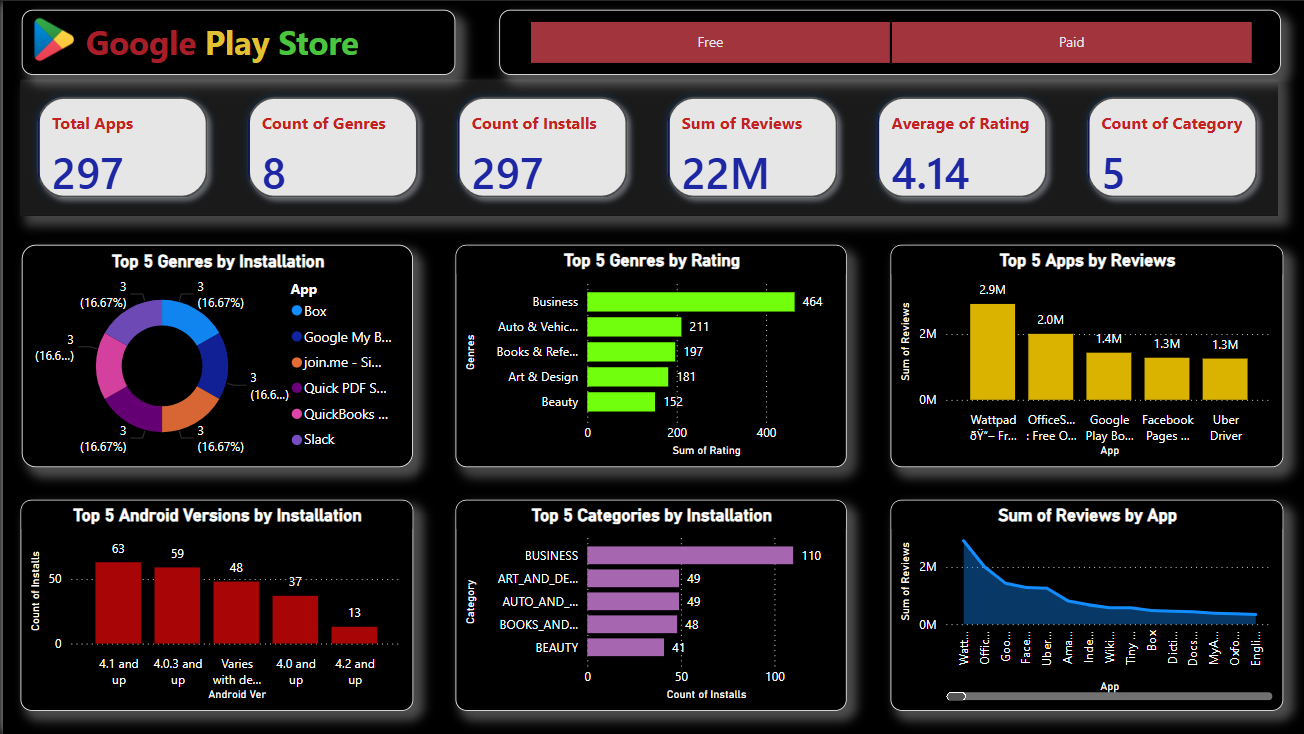

The dashboard page shown, as its layout file describes it:
{"tool":"powerbi","page":{"name":"Page 1","canvas":[1280,720],"ordinal":0},"visuals":[{"type":"cardVisual","fields":{"Data":["googleplaystore googleplaystore.Total Apps","Count(googleplaystore googleplaystore.Genres)","CountNonNull(googleplaystore googleplaystore.Installs)","Sum(googleplaystore googleplaystore.Reviews)","Avg(googleplaystore googleplaystore.Rating)","Count(googleplaystore googleplaystore.Category)"]},"box":[17.2,77.3,1234.4,133.7],"z":0},{"type":"donutChart","title":"Top 5 Genres by Installation","fields":{"Category":["googleplaystore googleplaystore.App"],"Y":["CountNonNull(googleplaystore googleplaystore.Installs)"]},"box":[18.4,239.3,384.1,218.4],"z":1000},{"type":"barChart","title":"Top 5 Genres by Rating","fields":{"Category":["googleplaystore googleplaystore.Genres"],"Y":["Sum(googleplaystore googleplaystore.Rating)"]},"box":[444.2,239.3,384.1,218.4],"z":2000},{"type":"columnChart","title":"Top 5 Apps by Reviews ","fields":{"Category":["googleplaystore googleplaystore.App"],"Y":["Sum(googleplaystore googleplaystore.Reviews)"]},"box":[871.2,239.3,385.3,218.4],"z":3000},{"type":"columnChart","title":"Top 5 Android Versions  by Installation ","fields":{"Category":["googleplaystore googleplaystore.Android Ver"],"Y":["CountNonNull(googleplaystore googleplaystore.Installs)"]},"box":[17.2,489.6,385.3,207.4],"z":4000},{"type":"barChart","title":"Top 5 Categories by Installation","fields":{"Category":["googleplaystore googleplaystore.Category"],"Y":["CountNonNull(googleplaystore googleplaystore.Installs)"]},"box":[444.2,489.6,384.1,207.4],"z":5000},{"type":"areaChart","fields":{"Category":["googleplaystore googleplaystore.App"],"Y":["Sum(googleplaystore googleplaystore.Reviews)"]},"box":[871.2,489.6,385.3,207.4],"z":6000},{"type":"slicer","fields":{"Values":["googleplaystore googleplaystore.Type"]},"box":[487.1,8.6,766.9,63.8],"z":7000},{"type":"textbox","box":[18.4,8.6,425.8,64],"z":8000},{"type":"image","box":[0,8.6,98.2,58.9],"z":9000}]}

Visuals, with their boxes in screenshot pixels (x1, y1, x2, y2), scaled from the page's 1280x720 canvas onto the 1304x734 screenshot:
cardVisual - googleplaystore googleplaystore.Total Apps x Count(googleplaystore googleplaystore.Genres): (x1=18, y1=79, x2=1275, y2=215)
"Top 5 Genres by Installation" donutChart: (x1=19, y1=244, x2=410, y2=467)
"Top 5 Genres by Rating" barChart: (x1=453, y1=244, x2=844, y2=467)
"Top 5 Apps by Reviews " columnChart: (x1=888, y1=244, x2=1280, y2=467)
"Top 5 Android Versions  by Installation " columnChart: (x1=18, y1=499, x2=410, y2=711)
"Top 5 Categories by Installation" barChart: (x1=453, y1=499, x2=844, y2=711)
areaChart - googleplaystore googleplaystore.App x Sum(googleplaystore googleplaystore.Reviews): (x1=888, y1=499, x2=1280, y2=711)
slicer - googleplaystore googleplaystore.Type: (x1=496, y1=9, x2=1278, y2=74)
textbox: (x1=19, y1=9, x2=453, y2=74)
image: (x1=0, y1=9, x2=100, y2=69)
